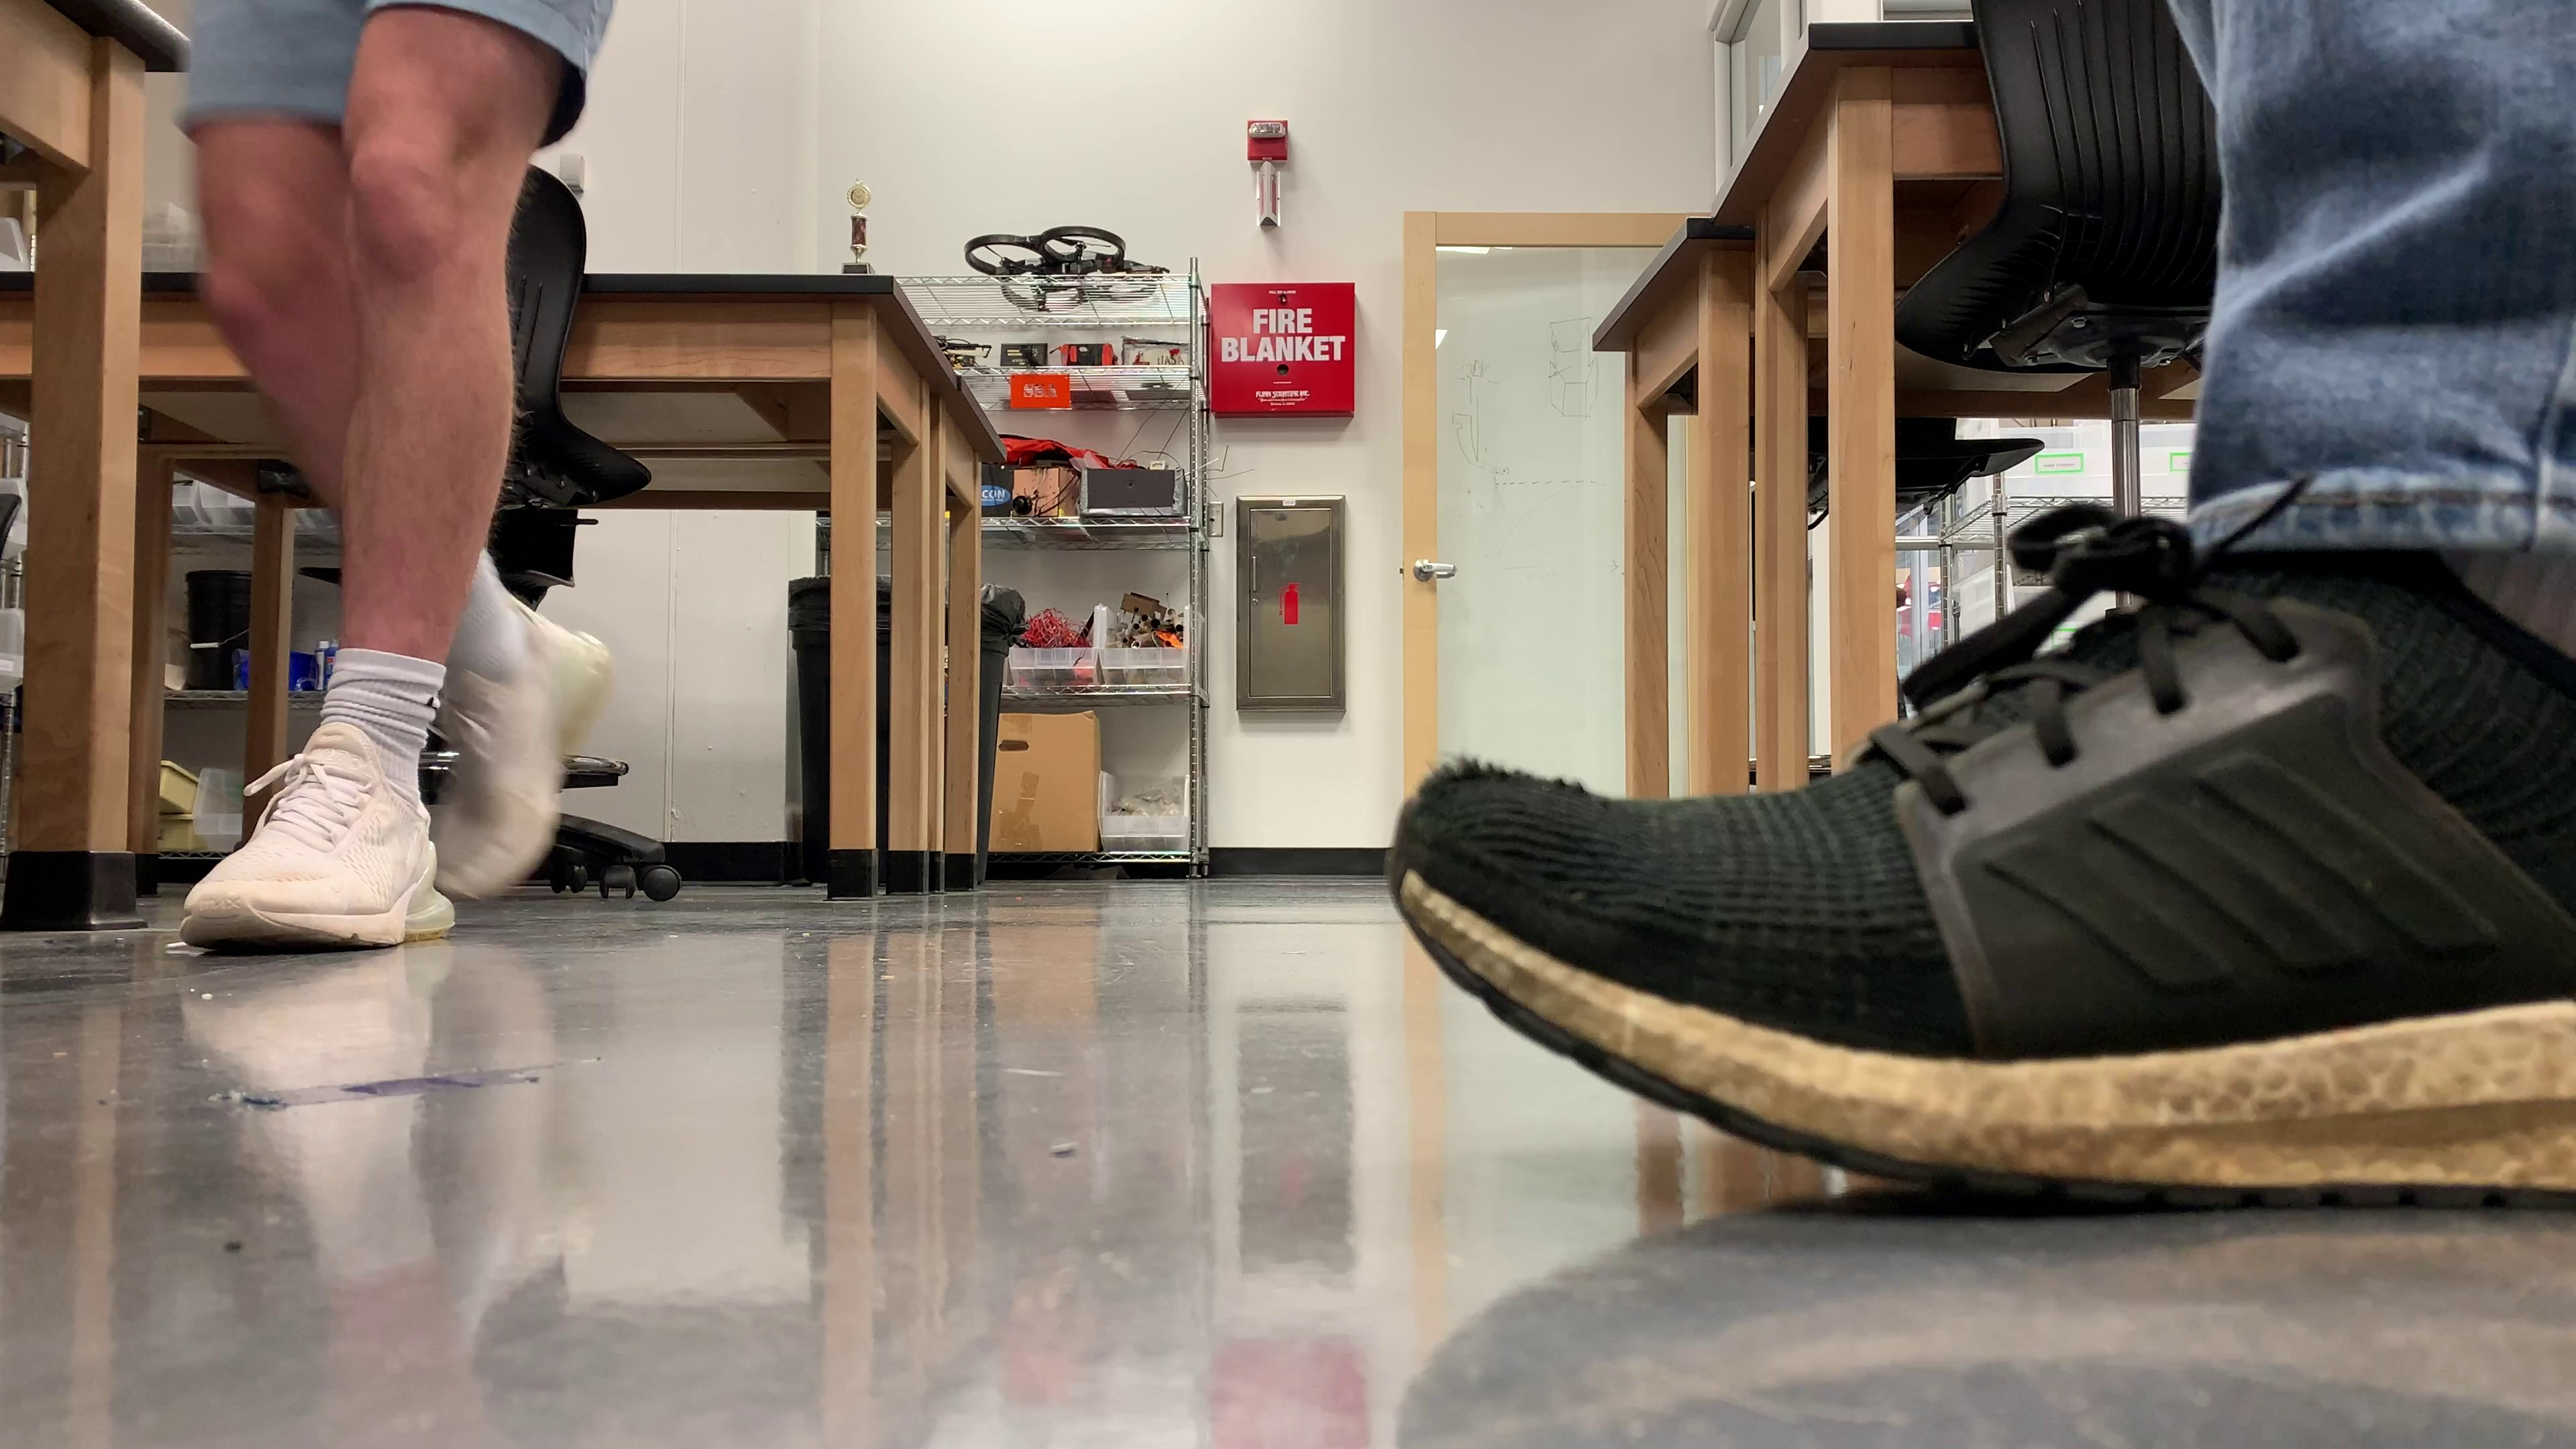shoe: (1385, 541, 2576, 1200), (180, 717, 455, 948)
